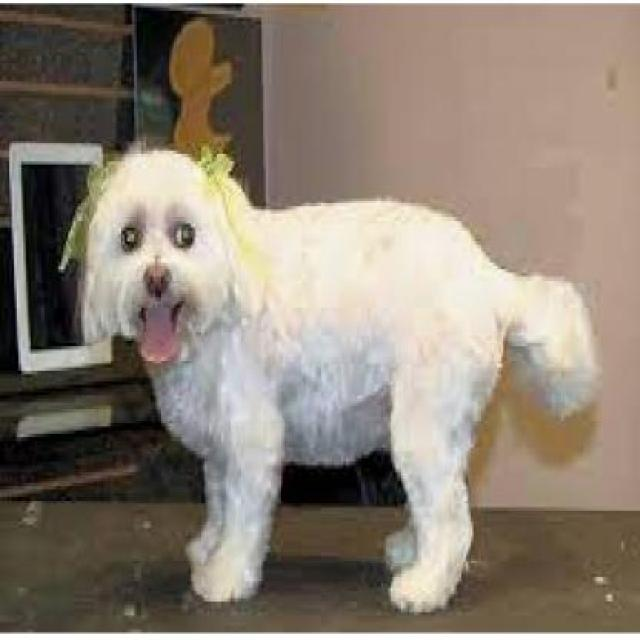Dog: (73, 148, 604, 610)
